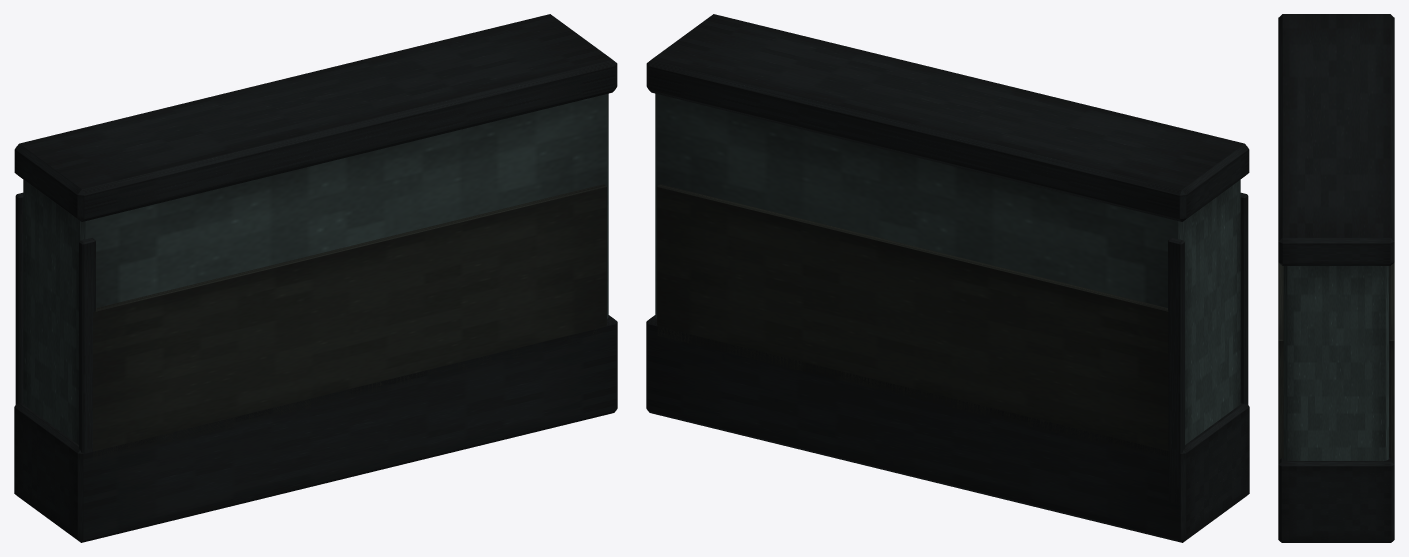
The model's file is THStage_CentralCrosswall.fbx.
The picture shows the model from 3 angles, left to right: view 1: azimuth 30°, elevation 25°; view 2: azimuth 150°, elevation 25°; view 3: azimuth 270°, elevation 25°; orthographic projection. The views are drawn at different scales.
Parts seen in each view (by area): view 1: THStage_CentralCrosswall.002; view 2: THStage_CentralCrosswall.002; view 3: THStage_CentralCrosswall.002.
Boxes of the visible parts, x1,y1,x2,y2 form: THStage_CentralCrosswall.002: [14, 14, 617, 542]; THStage_CentralCrosswall.002: [646, 14, 1249, 542]; THStage_CentralCrosswall.002: [1278, 14, 1394, 542].
Size of the model in its own units: 1.2 by 0.75 by 0.26.
1 material, 1 textured.
